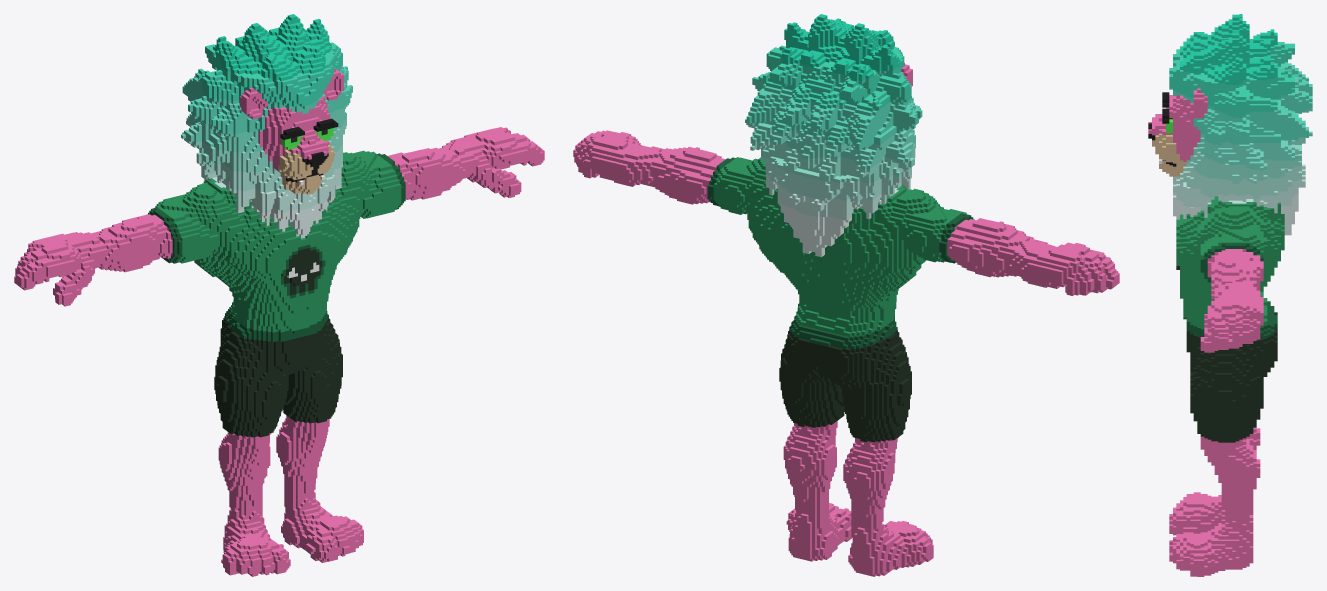
Rendered from 698-OWkY_Ul3.glb.
The picture shows the model from 3 angles, left to right: view 1: azimuth 30°, elevation 25°; view 2: azimuth 150°, elevation 25°; view 3: azimuth 270°, elevation 25°; orthographic projection. The views are drawn at different scales.
Visible parts, largest first — view 1: standard; view 2: standard; view 3: standard.
Boxes of the visible parts, <box> form: standard: <box>14,14,544,576</box>; standard: <box>573,14,1119,576</box>; standard: <box>1148,14,1312,576</box>.
Size of the model in its own units: 17.2 by 16.5 by 4.7.
Materials: 5 (5 with a texture image).
